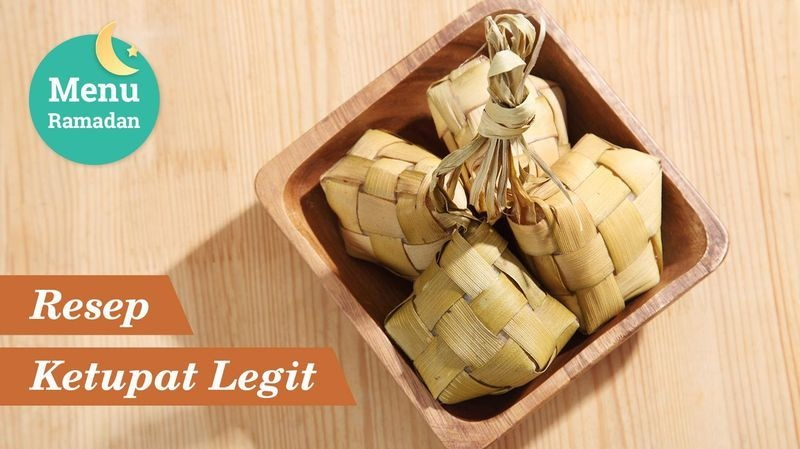ketupat: (382, 218, 581, 404), (508, 131, 664, 335), (317, 128, 468, 278)
